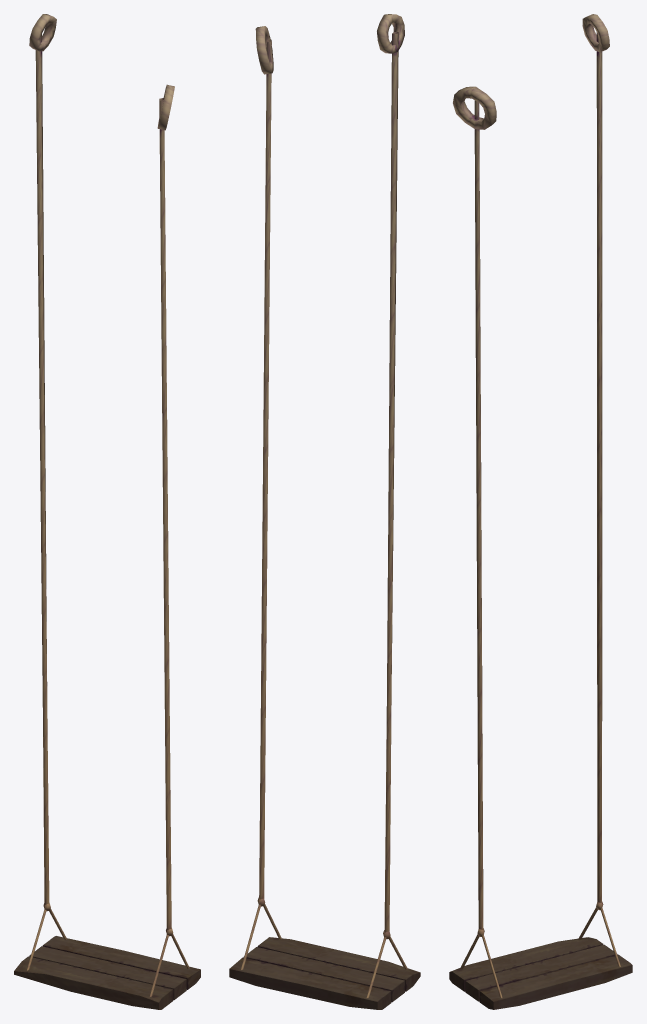
File: Swing_ScaleChange.fbx
The picture shows the model from 3 angles, left to right: view 1: azimuth 30°, elevation 25°; view 2: azimuth 210°, elevation 25°; view 3: azimuth 270°, elevation 25°; orthographic projection. The views are drawn at different scales.
Parts seen in each view (by area): view 1: Swing_Rope, Swing_Seat; view 2: Swing_Rope, Swing_Seat; view 3: Swing_Rope, Swing_Seat.
Boxes of the visible parts, x1,y1,x2,y2 form: Swing_Rope: (26,14,189,996); Swing_Seat: (14,936,200,1009); Swing_Rope: (240,14,407,997); Swing_Seat: (229,937,420,1009); Swing_Rope: (453,14,620,997); Swing_Seat: (449,937,632,1009).
Size of the model in its own units: 214 by 1399 by 246.
